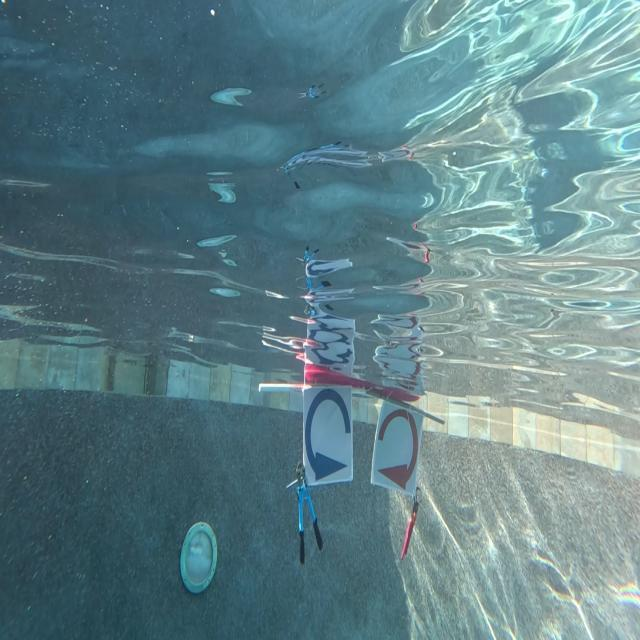blue_side: (304, 388, 355, 484)
red_side: (374, 403, 408, 493)
